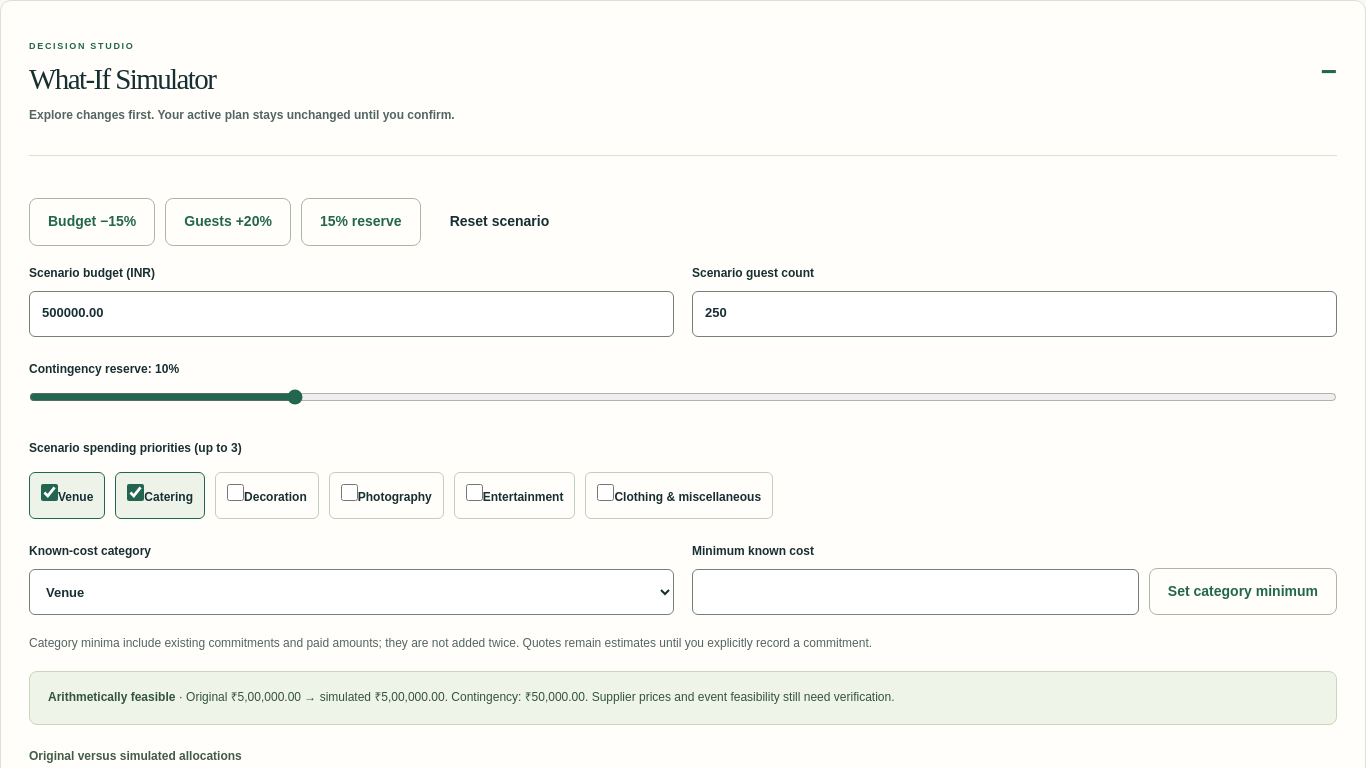
Test: reports and focuses invalid known cost  without mutating the plan
What coordinates should you click on to do the following:
click the button "Set category minimum"
I would click on:
 (1243, 591)
Its box is [1149,568,1337,615].
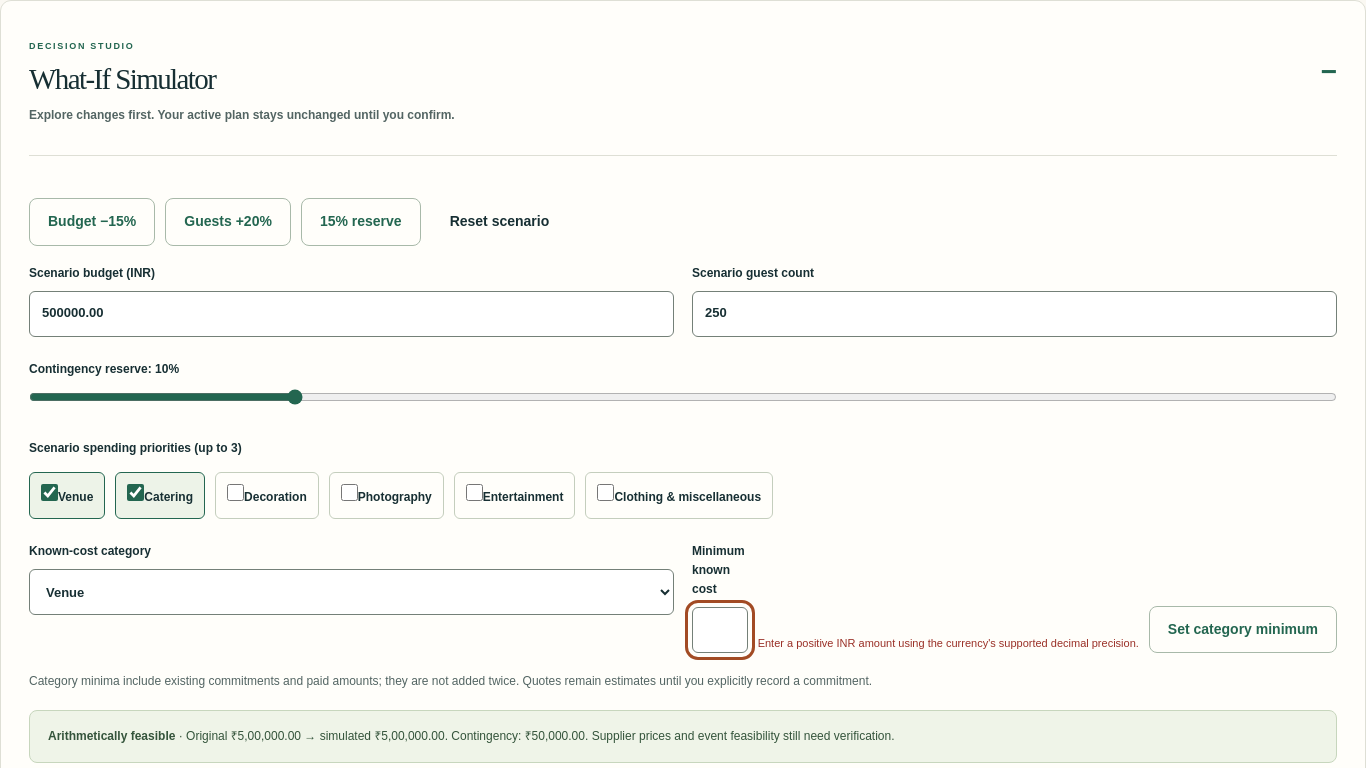
Expected: the message "Enter a positive INR amount using the currency's supported decimal precision." is shown, [758,634,1139,653]
